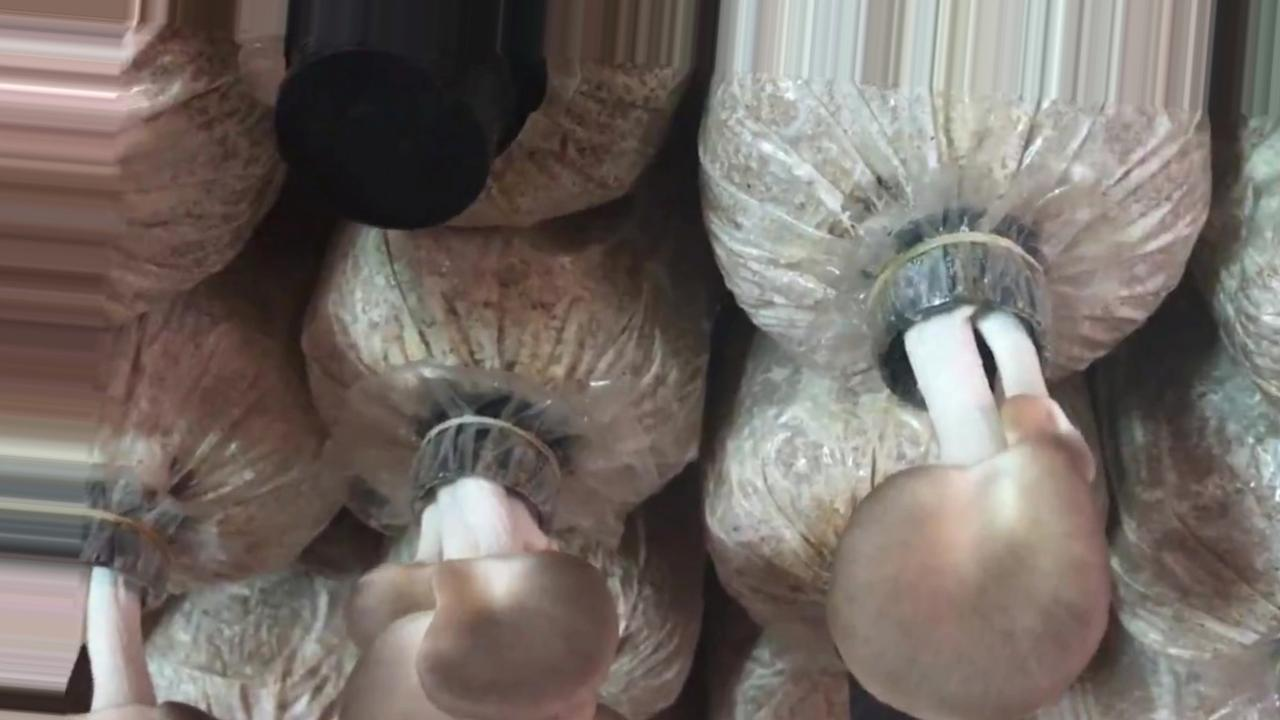nam: (829, 236, 1112, 717), (346, 423, 618, 719), (1, 484, 213, 719)
